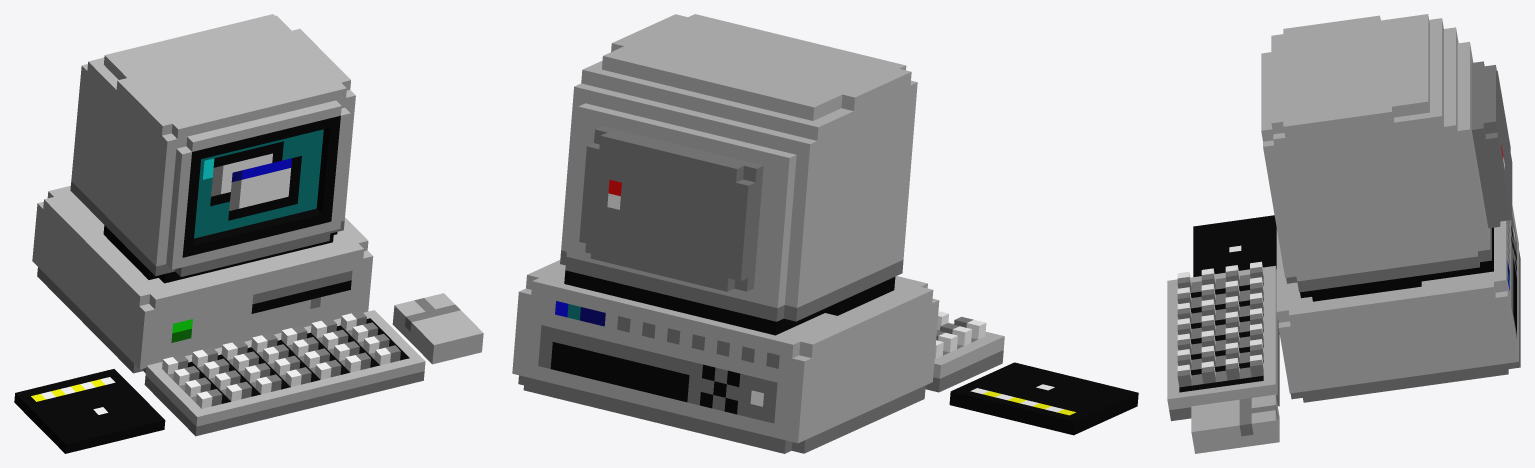
3 renders of one model, left to right at view 1: azimuth 30°, elevation 25°; view 2: azimuth 150°, elevation 25°; view 3: azimuth 270°, elevation 25°, orthographic. The views are drawn at different scales.
Visible parts, largest first — view 1: Object_2; view 2: Object_2; view 3: Object_2.
Part boxes in pixels (x1,y1,x2,y2): Object_2: (14,14,483,453); Object_2: (512,14,1138,453); Object_2: (1167,14,1520,453).
Bounding box in the file's own units: 4.2 × 2.75 × 2.9.
Materials: 1 (1 with a texture image).
